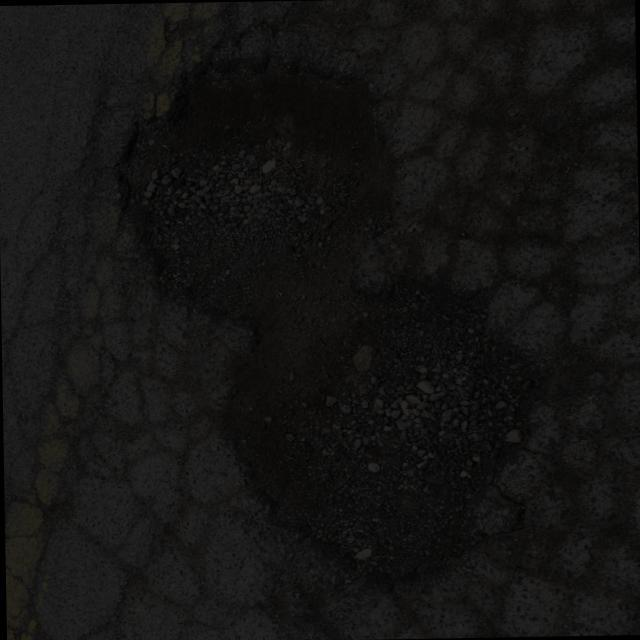pothole: (199, 244, 531, 600), (82, 54, 387, 332)
